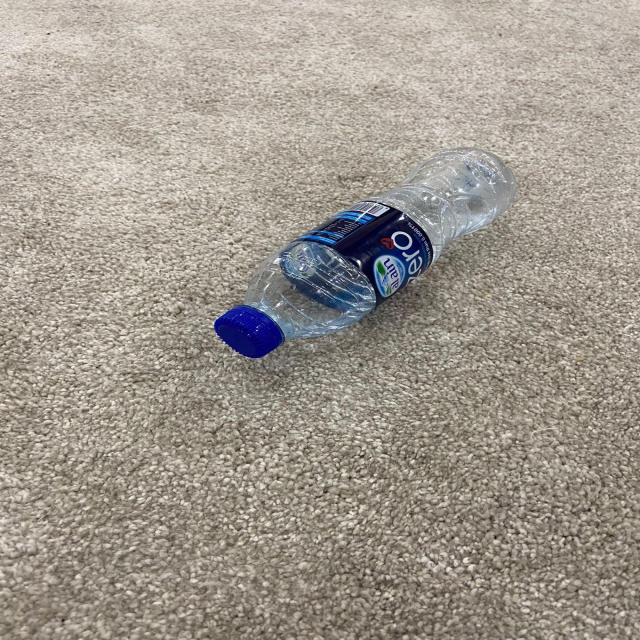bottle: (177, 139, 530, 384)
